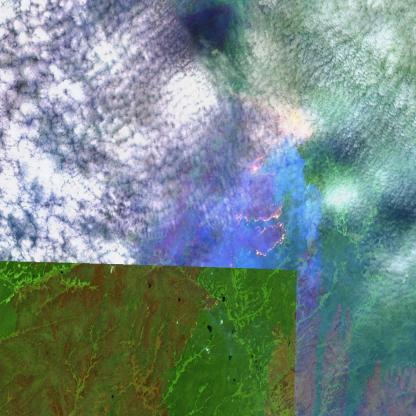fire: (222, 86, 310, 259)
